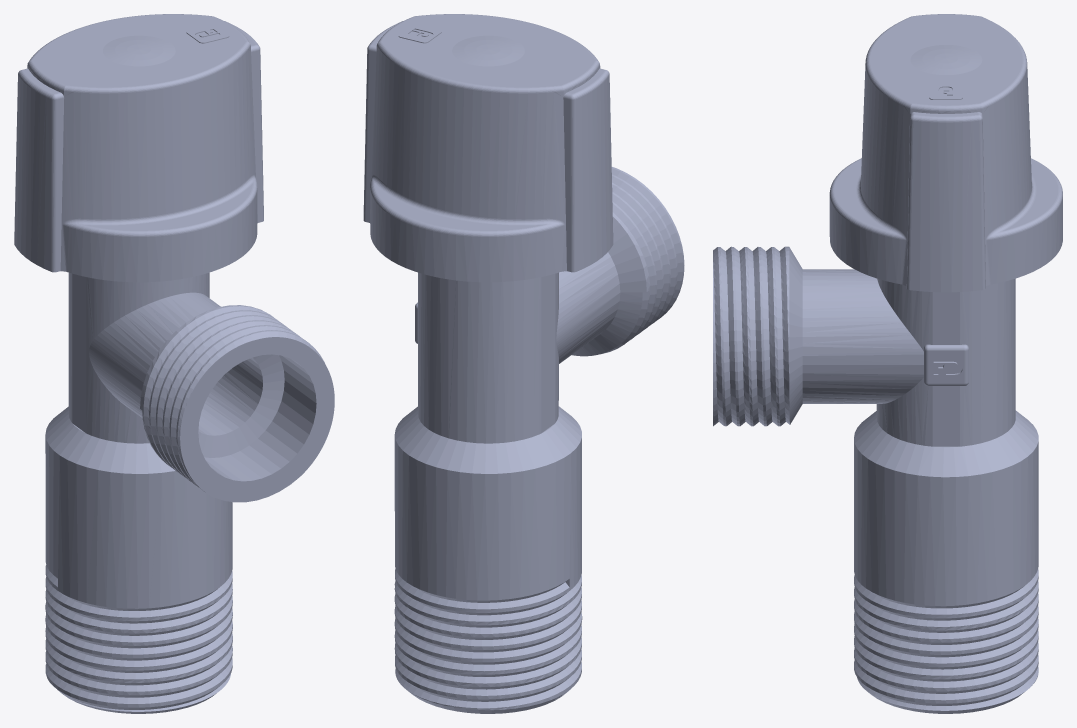
The picture shows the model from 3 angles, left to right: view 1: azimuth 30°, elevation 25°; view 2: azimuth 150°, elevation 25°; view 3: azimuth 270°, elevation 25°; orthographic projection.
Visible parts, largest first — view 1: Shape_IndexedFaceSet, Shape_IndexedFaceSet.001; view 2: Shape_IndexedFaceSet, Shape_IndexedFaceSet.001; view 3: Shape_IndexedFaceSet, Shape_IndexedFaceSet.001.
Boxes of the visible parts, x1,y1,x2,y2 form: Shape_IndexedFaceSet: (45,272,334,713); Shape_IndexedFaceSet.001: (14,14,263,282); Shape_IndexedFaceSet: (394,167,684,713); Shape_IndexedFaceSet.001: (363,14,613,282); Shape_IndexedFaceSet: (713,246,1038,713); Shape_IndexedFaceSet.001: (829,14,1062,292).
Size of the model in its own units: 28.17 by 76.2 by 38.99.
